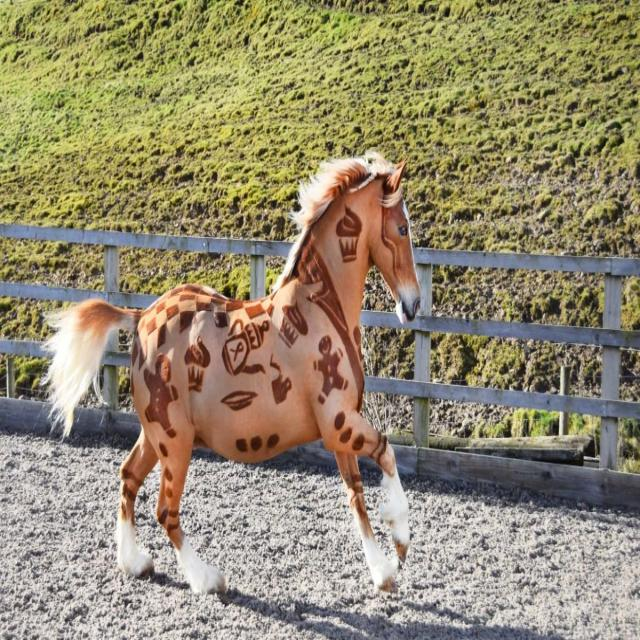horse: (48, 154, 420, 593)
